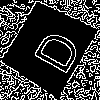D: (23, 22, 84, 76)
